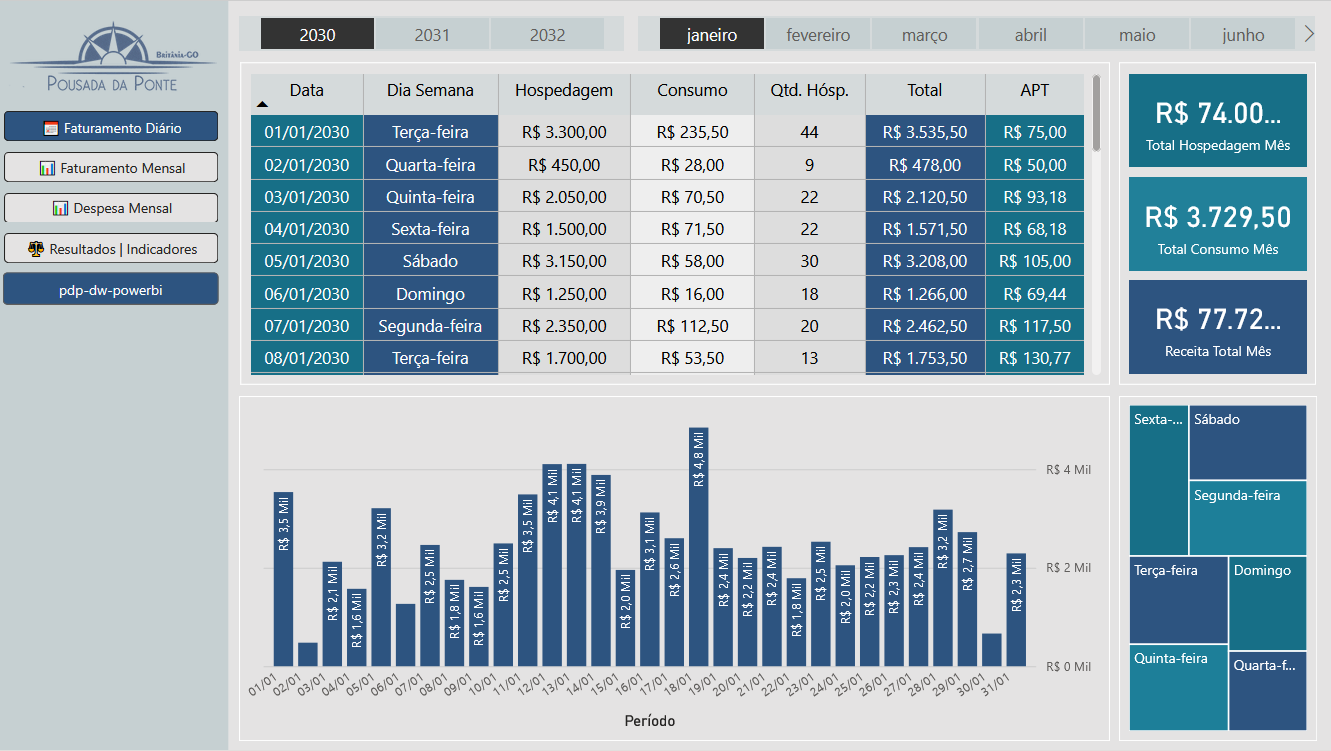

Layout of this report page (visuals, bound fields, positions):
{"tool":"powerbi","page":{"name":"📅 Faturamento Diário","canvas":[1280,720],"ordinal":0},"visuals":[{"type":"shape","box":[1076.1,380,190.6,331.8],"z":0},{"type":"shape","box":[1076.1,59.1,189.4,310.1],"z":1000},{"type":"shape","box":[231.6,59.1,836.1,310.1],"z":2000},{"type":"shape","box":[230.4,380,837.3,331.8],"z":3000},{"type":"slicer","fields":{"Values":["dw_marts hospedagem_resumo.data.Variation.Hierarquia de datas.Mês"]},"box":[613.8,15,651.2,33.8],"z":4000},{"type":"card","fields":{"Values":["Sum(dw_marts hospedagem_resumo.Total)"]},"box":[1085.8,267.8,171.3,90.5],"z":5000},{"type":"slicer","fields":{"Values":["dw_marts hospedagem_resumo.Data.Variation.Hierarquia de datas.Ano"]},"box":[231.2,15,370,33.8],"z":6000},{"type":"tableEx","fields":{"Values":["dw_marts hospedagem_resumo.data","dw_marts hospedagem_resumo.dia_semana","Sum(dw_marts hospedagem_resumo.hospedagem)","Sum(dw_marts hospedagem_resumo.consumo)","Sum(dw_marts hospedagem_resumo.quantidade_hospedes)","Sum(dw_marts hospedagem_resumo.total)","Sum(dw_marts hospedagem_resumo.apt)"]},"box":[241.3,70,818,289.5],"z":7000},{"type":"shape","box":[0,0,220.8,720.2],"z":8000},{"type":"card","fields":{"Values":["Sum(dw_marts hospedagem_resumo.Consumo)"]},"box":[1085.8,168.9,171.3,90.5],"z":9000},{"type":"card","fields":{"Values":["Sum(dw_marts hospedagem_resumo.Hospedagem)"]},"box":[1085.8,70,171.3,90],"z":10000},{"type":"pageNavigator","box":[5,106.2,206.2,148.8],"z":11000},{"type":"image","box":[3.6,8.4,211.1,88.1],"z":12000},{"type":"actionButton","box":[3.6,260.6,207.5,31.4],"z":13000},{"type":"columnChart","fields":{"Y":["Sum(dw_marts hospedagem_resumo.Total)"],"Category":["dw_marts hospedagem_resumo.Data"]},"box":[231.6,374,824,331.8],"z":14000},{"type":"treemap","fields":{"Group":["dw_marts hospedagem_resumo.Dia Semana"],"Values":["Sum(dw_marts hospedagem_resumo.Total)"]},"box":[1085.8,388.5,171.3,313.7],"z":15000}]}

Visuals, with their boxes on the page's 1280x720 design canvas (x1, y1, x2, y2). These are canvas units, not pixel positions in the 1331x751 screenshot, which may show the page scaled, cropped or inside an application window:
shape: [left=1076, top=380, right=1267, bottom=712]
shape: [left=1076, top=59, right=1266, bottom=369]
shape: [left=232, top=59, right=1068, bottom=369]
shape: [left=230, top=380, right=1068, bottom=712]
slicer - dw_marts hospedagem_resumo.data.Variation.Hierarquia de datas.Mês: [left=614, top=15, right=1265, bottom=49]
card - Sum(dw_marts hospedagem_resumo.Total): [left=1086, top=268, right=1257, bottom=358]
slicer - dw_marts hospedagem_resumo.Data.Variation.Hierarquia de datas.Ano: [left=231, top=15, right=601, bottom=49]
tableEx - dw_marts hospedagem_resumo.data x dw_marts hospedagem_resumo.dia_semana: [left=241, top=70, right=1059, bottom=360]
shape: [left=0, top=0, right=221, bottom=720]
card - Sum(dw_marts hospedagem_resumo.Consumo): [left=1086, top=169, right=1257, bottom=259]
card - Sum(dw_marts hospedagem_resumo.Hospedagem): [left=1086, top=70, right=1257, bottom=160]
pageNavigator: [left=5, top=106, right=211, bottom=255]
image: [left=4, top=8, right=215, bottom=96]
actionButton: [left=4, top=261, right=211, bottom=292]
columnChart - Sum(dw_marts hospedagem_resumo.Total) x dw_marts hospedagem_resumo.Data: [left=232, top=374, right=1056, bottom=706]
treemap - dw_marts hospedagem_resumo.Dia Semana x Sum(dw_marts hospedagem_resumo.Total): [left=1086, top=388, right=1257, bottom=702]
